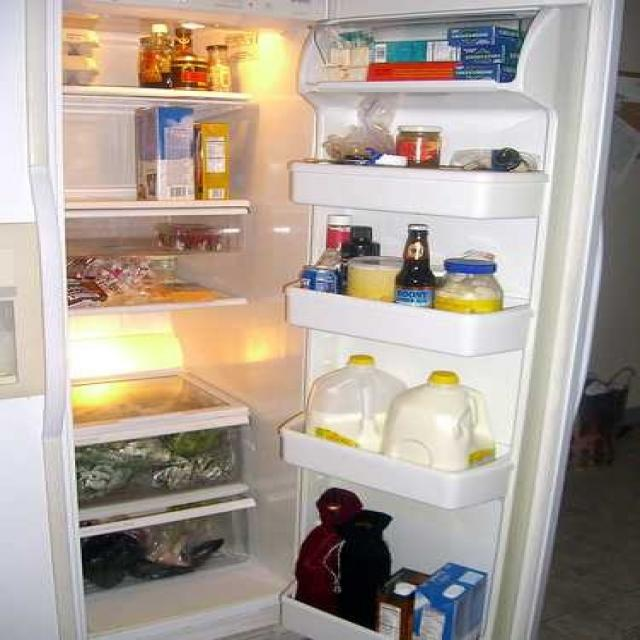refrigerator: (11, 0, 629, 577)
